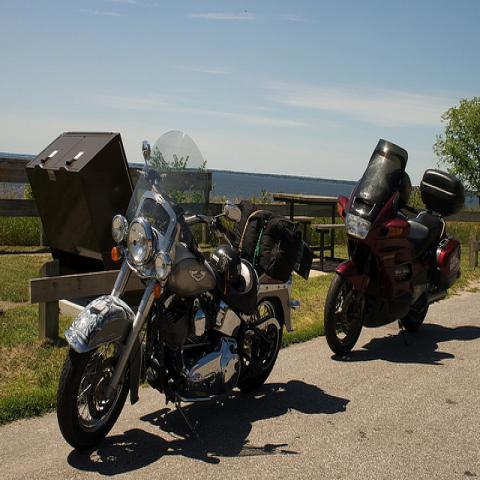motorcycle: (61, 137, 302, 447), (322, 135, 470, 353)
